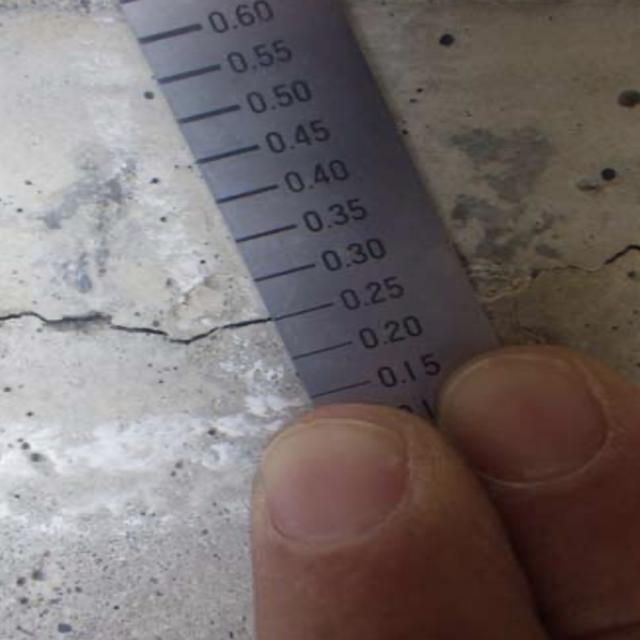crack: (3, 284, 281, 360)
